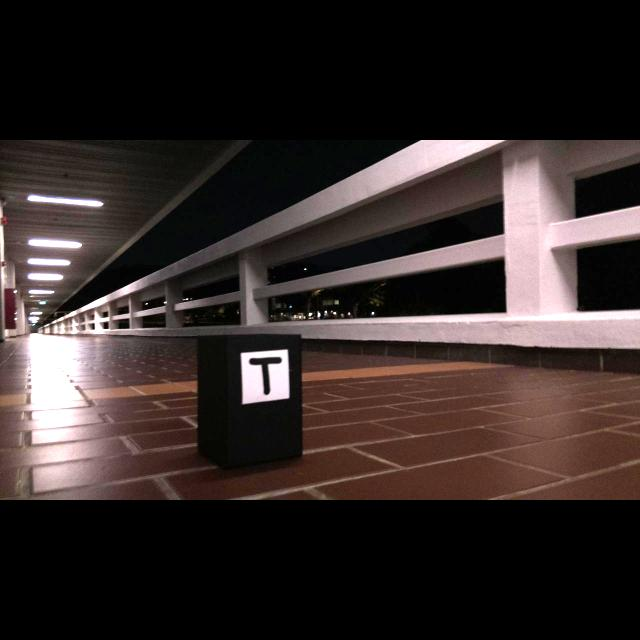T: (248, 356, 282, 396)
